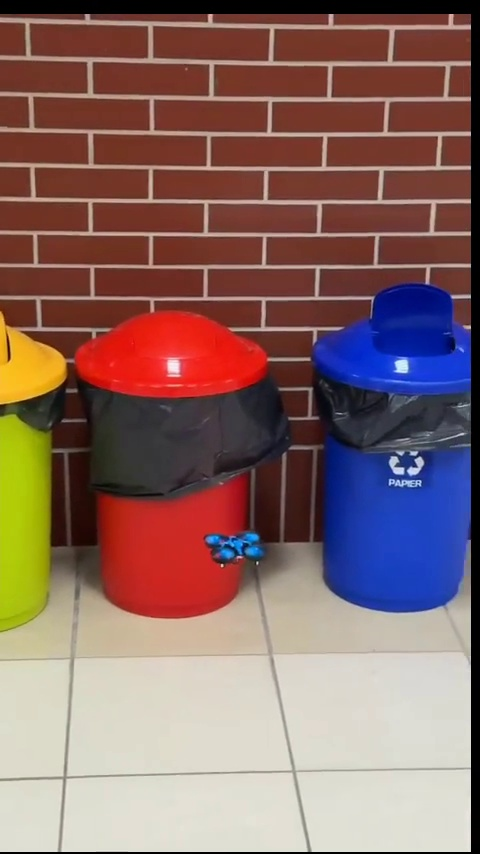drone: (204, 531, 263, 565)
